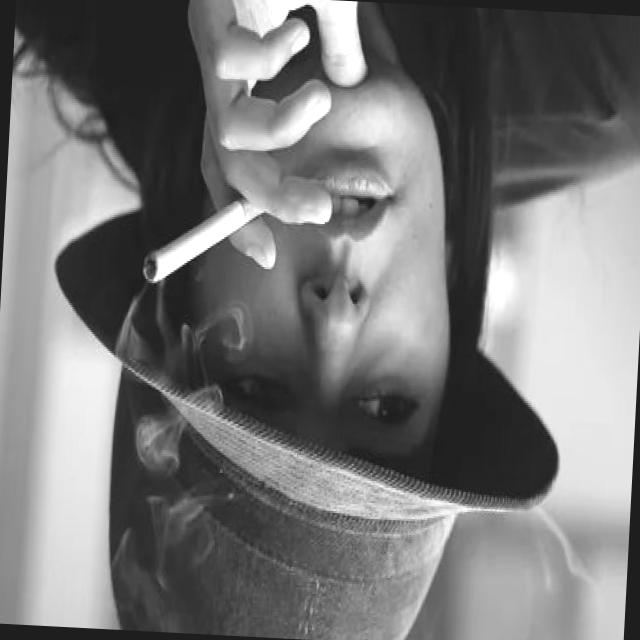cigarette: (140, 180, 275, 298)
